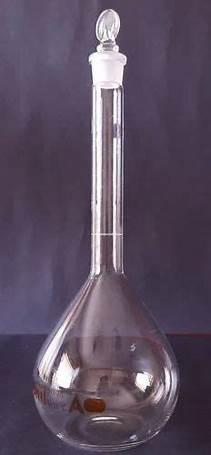Volumetric flask: (35, 15, 181, 451)
